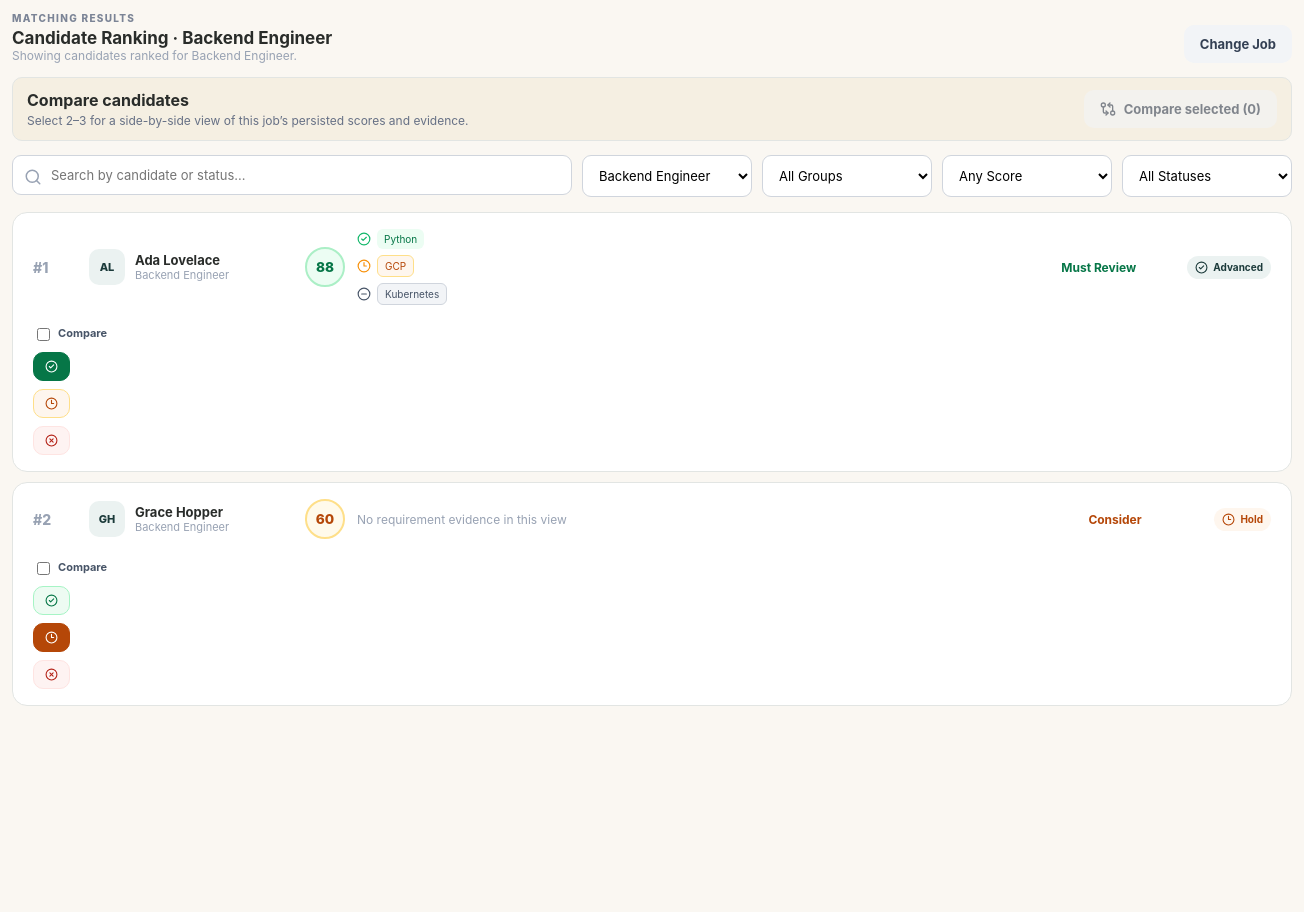
Test case: MatchingResults filters › filters rows by minimum score and hides candidates below score
Expected: the text "Ada Lovelace" is shown, x1=135 y1=252 x2=229 y2=268
Select "85+ (Strong Match)" in the dropdown named "filter results by minimum score" at (1027, 176), box x1=942 y1=155 x2=1112 y2=197
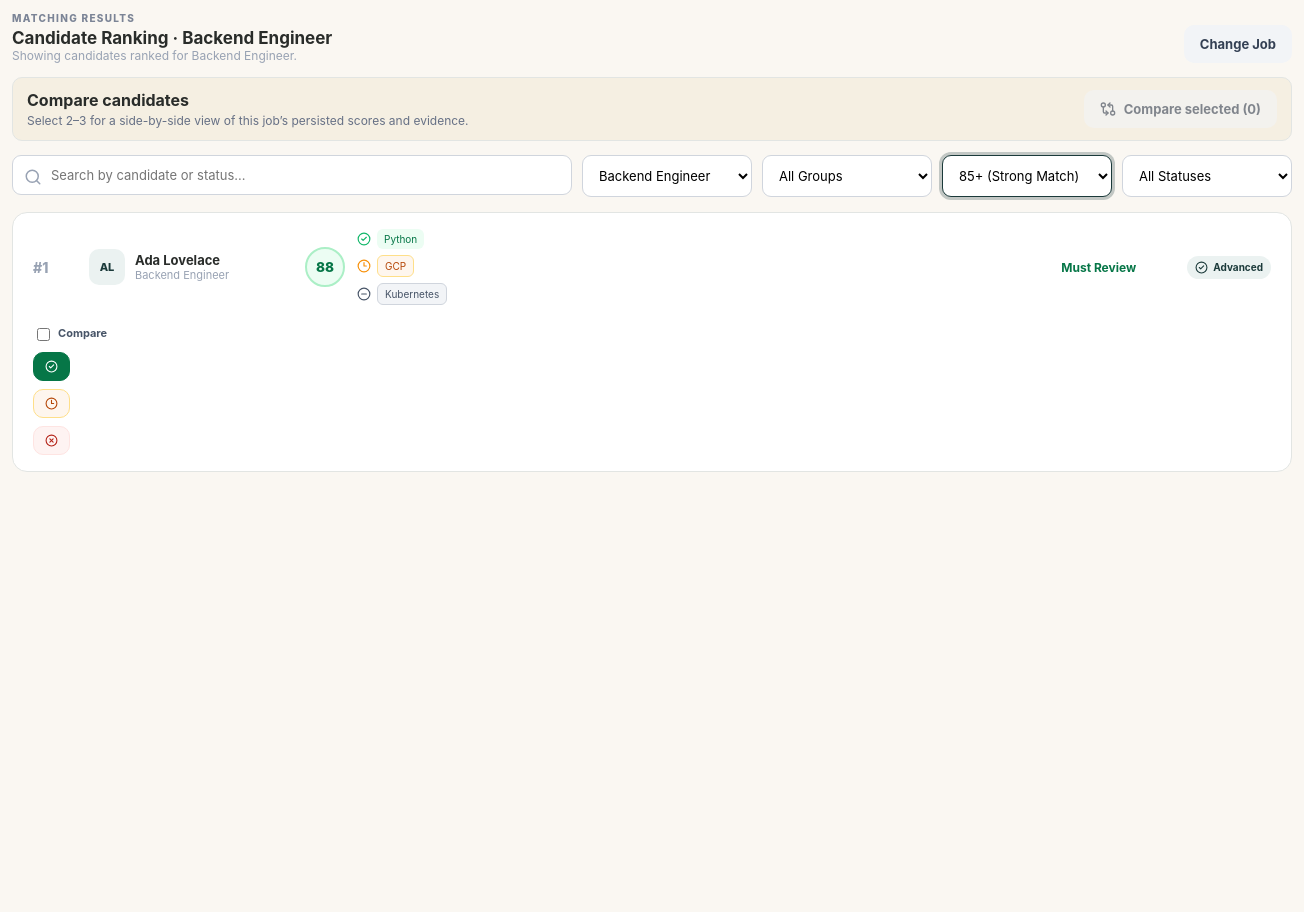
Expected: the text "Ada Lovelace" is shown, x1=135 y1=252 x2=229 y2=268
Expected: the link "Grace Hopper" is gone
